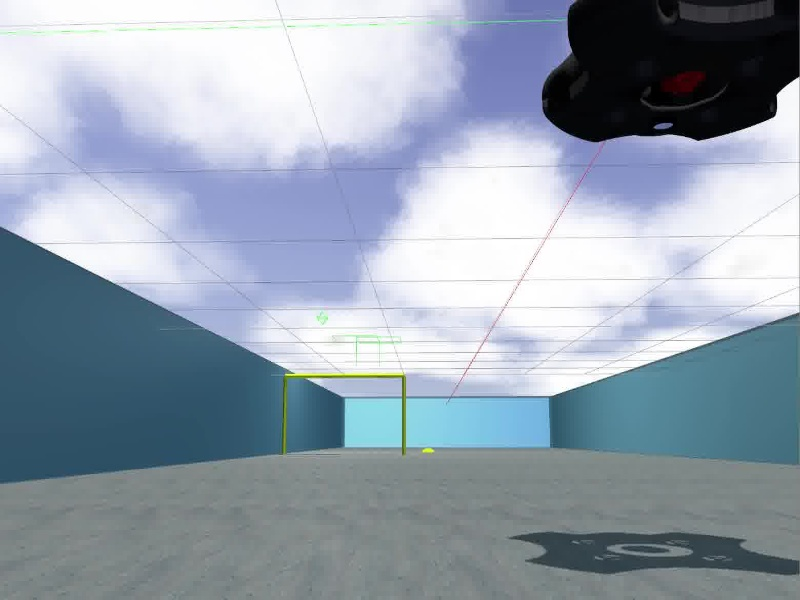gate: (282, 372, 407, 455)
